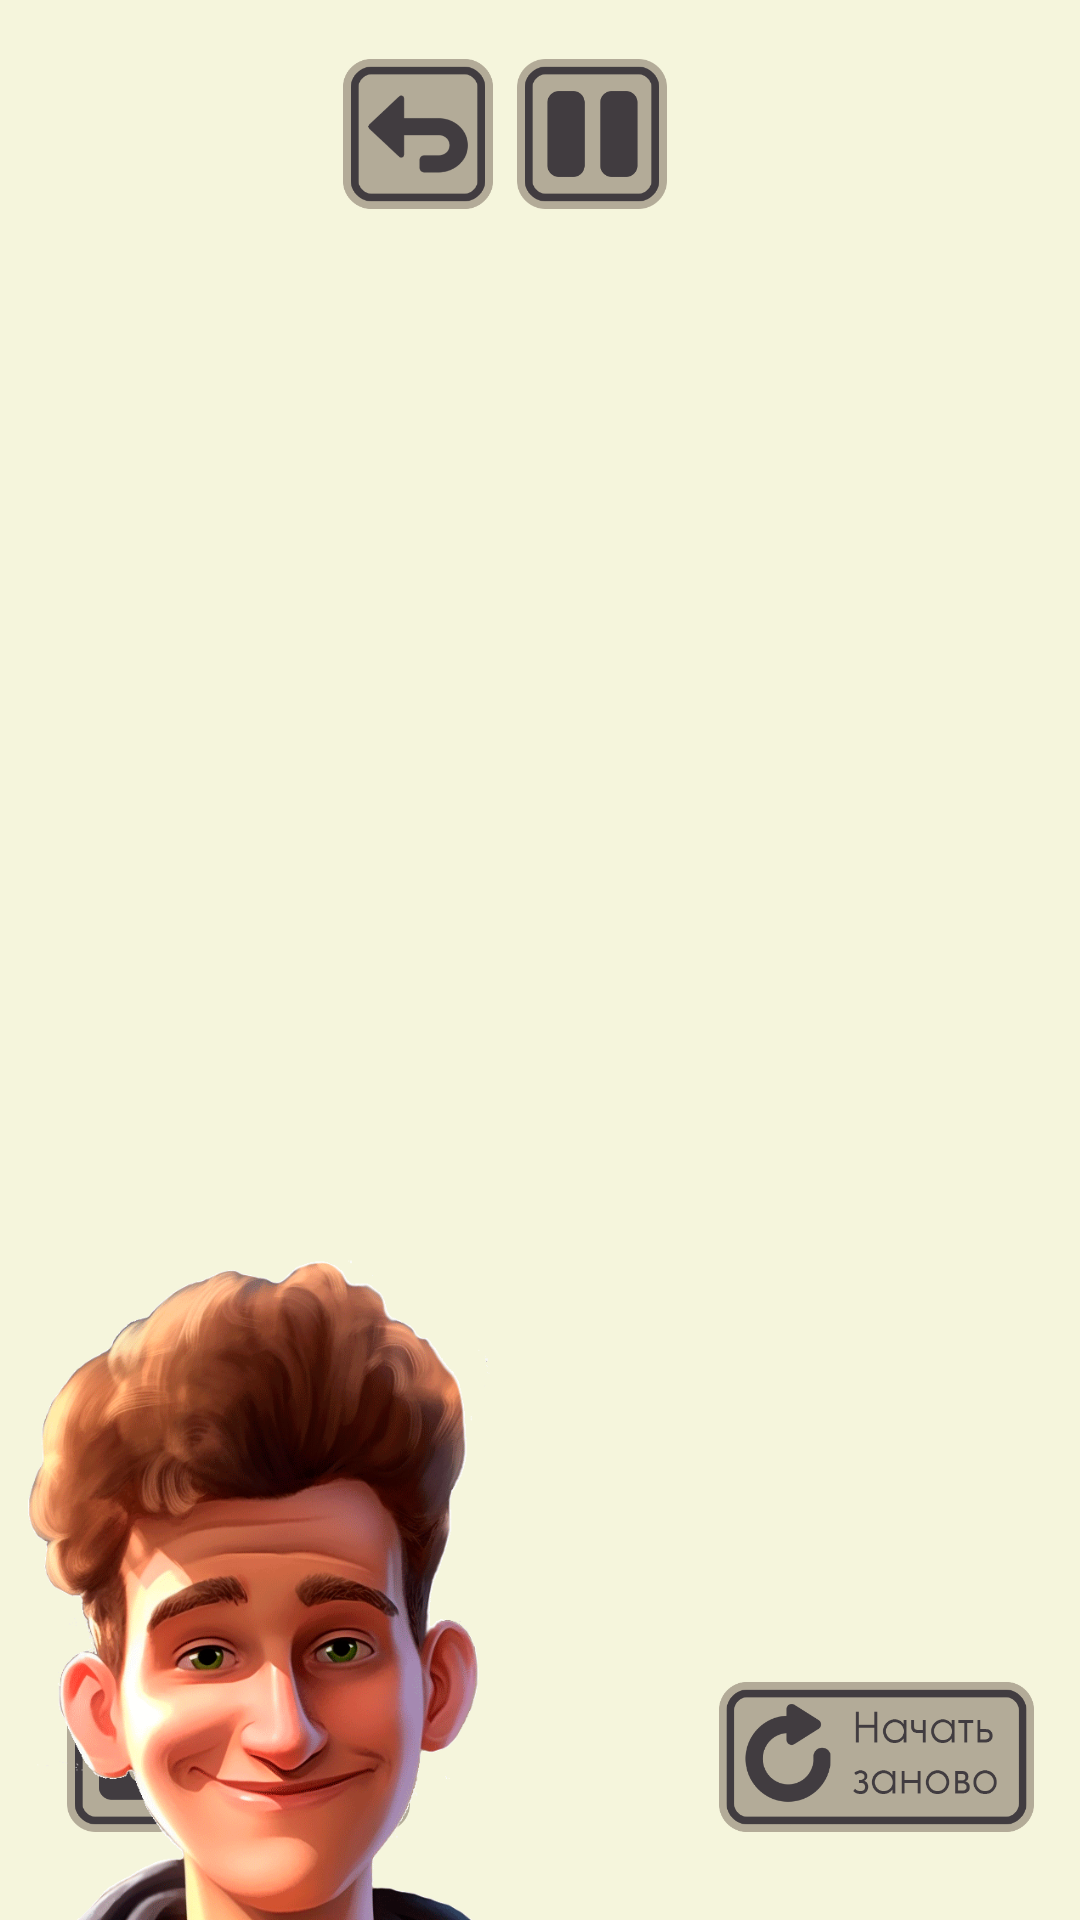

Where to tap for icons on this 1080×1920 app screen, as (x=x, y=y):
pause: (x=592, y=134)
undo: (x=418, y=134)
